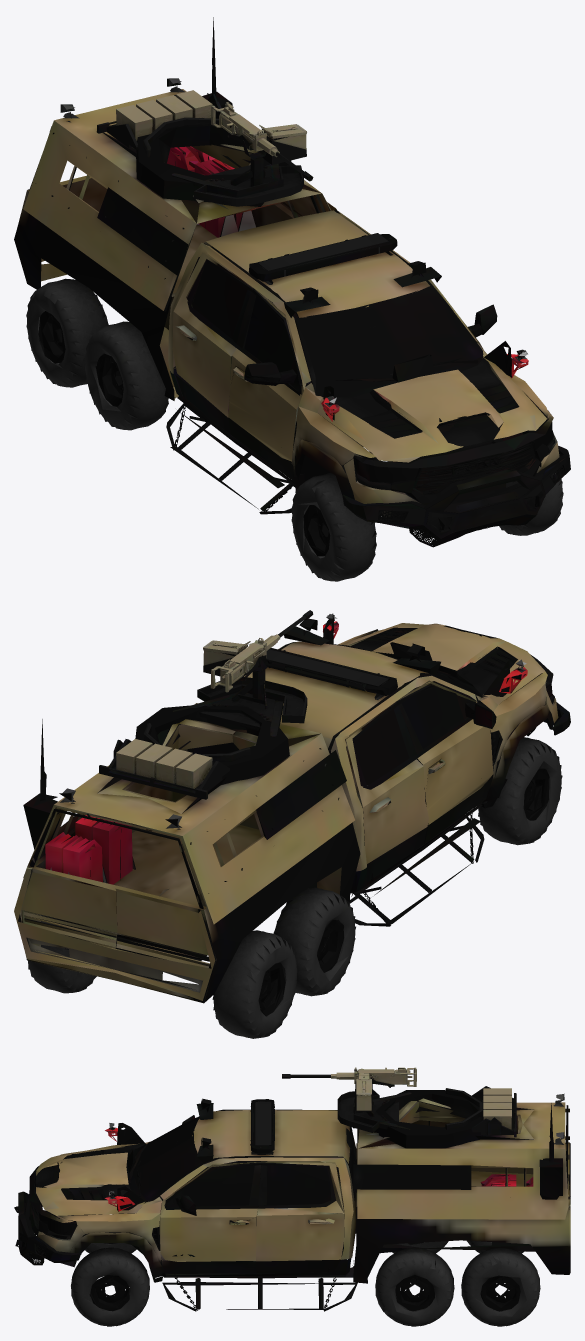
The model's file is truck.glb.
3 views of the same model, one above another, from view 1: azimuth 30°, elevation 25°; view 2: azimuth 150°, elevation 25°; view 3: azimuth 270°, elevation 25° (orthographic). The views are drawn at different scales.
Parts seen in each view (by area): view 1: TruckBody, TruckGun_mesh, Wheel_ML_mesh, Wheel_FL_mesh, Wheel_BL_mesh, Wheel_FR_mesh; view 2: TruckBody, TruckGun_mesh, Wheel_BL_mesh, Wheel_ML_mesh, Wheel_FL_mesh, Wheel_BR_mesh; view 3: TruckBody, TruckGun_mesh, Wheel_BR_mesh, Wheel_MR_mesh, Wheel_FR_mesh, Wheel_FL_mesh.
Boxes of the visible parts, x1,y1,x2,y2 form: TruckBody: (14, 17, 570, 547); TruckGun_mesh: (96, 90, 313, 206); Wheel_ML_mesh: (84, 321, 168, 430); Wheel_FL_mesh: (291, 472, 376, 581); Wheel_BL_mesh: (26, 278, 108, 387); Wheel_FR_mesh: (499, 473, 563, 535); TruckBody: (14, 613, 570, 1003); TruckGun_mesh: (99, 610, 313, 799); Wheel_BL_mesh: (212, 930, 297, 1038); Wheel_ML_mesh: (273, 887, 355, 996); Wheel_FL_mesh: (478, 737, 562, 845); Wheel_BR_mesh: (26, 915, 96, 993); TruckBody: (14, 1090, 570, 1311); TruckGun_mesh: (282, 1067, 516, 1137); Wheel_BR_mesh: (461, 1247, 540, 1326); Wheel_MR_mesh: (375, 1247, 454, 1326); Wheel_FR_mesh: (71, 1247, 149, 1326); Wheel_FL_mesh: (85, 1213, 136, 1253).
Bounding box in the file's own units: 1.26 × 1.45 × 3.3.
Materials: 8 (8 with a texture image).
